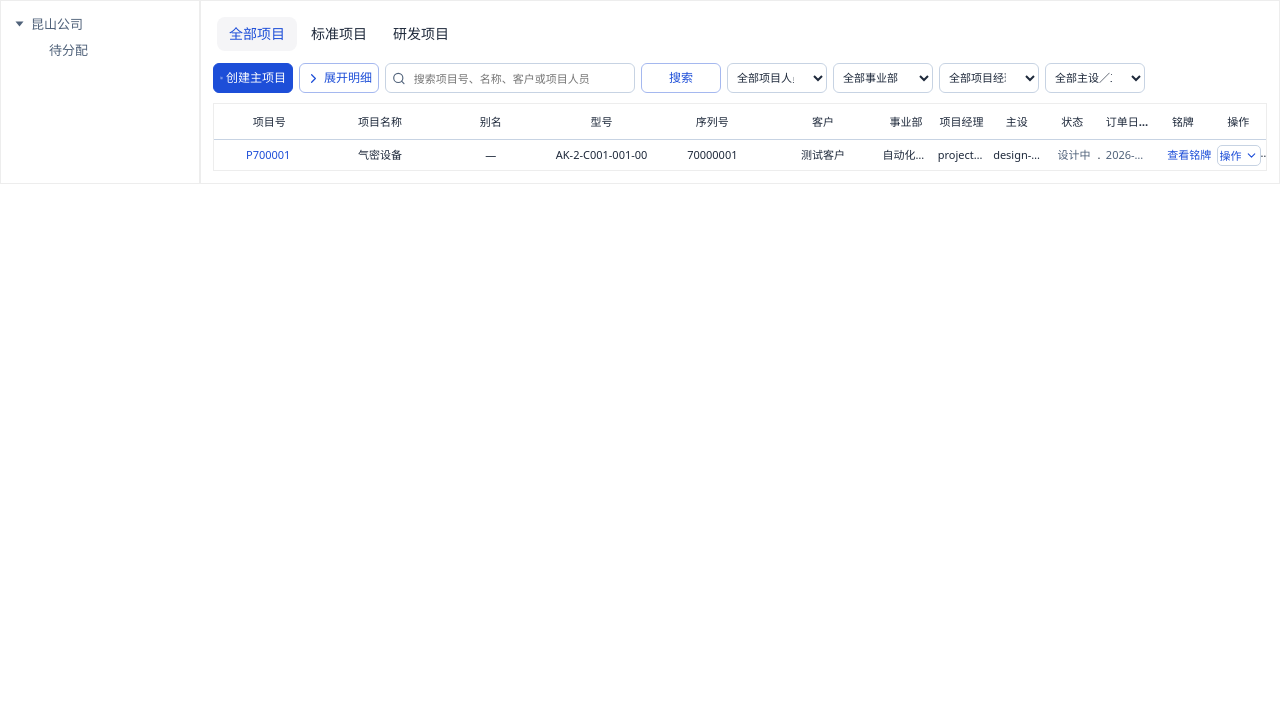
Test: ProjectManager › 从类型页签创建主项目时默认选中当前类型
The image size is (1280, 720).
Step 1. Click the tab "研发项目" → (421, 34), box 393,24 -> 449,43
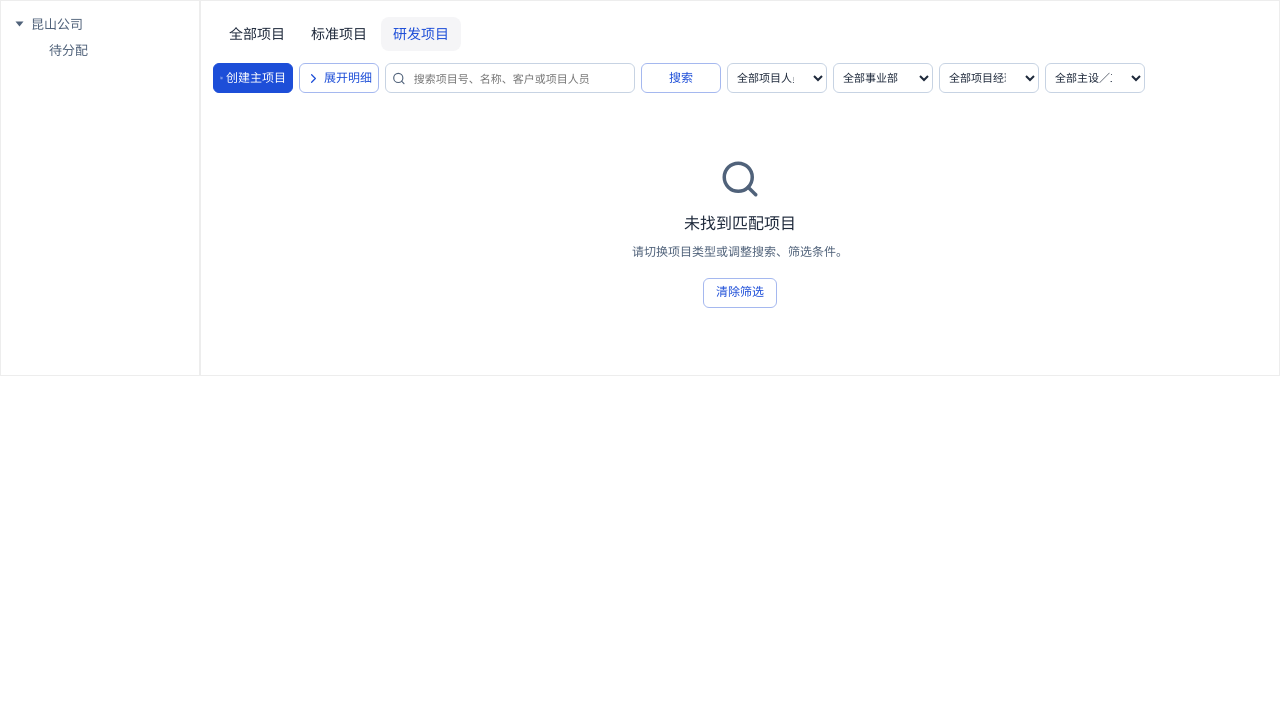
Step 2. Click the button "创建主项目" → (253, 78), box 213,63 -> 293,93
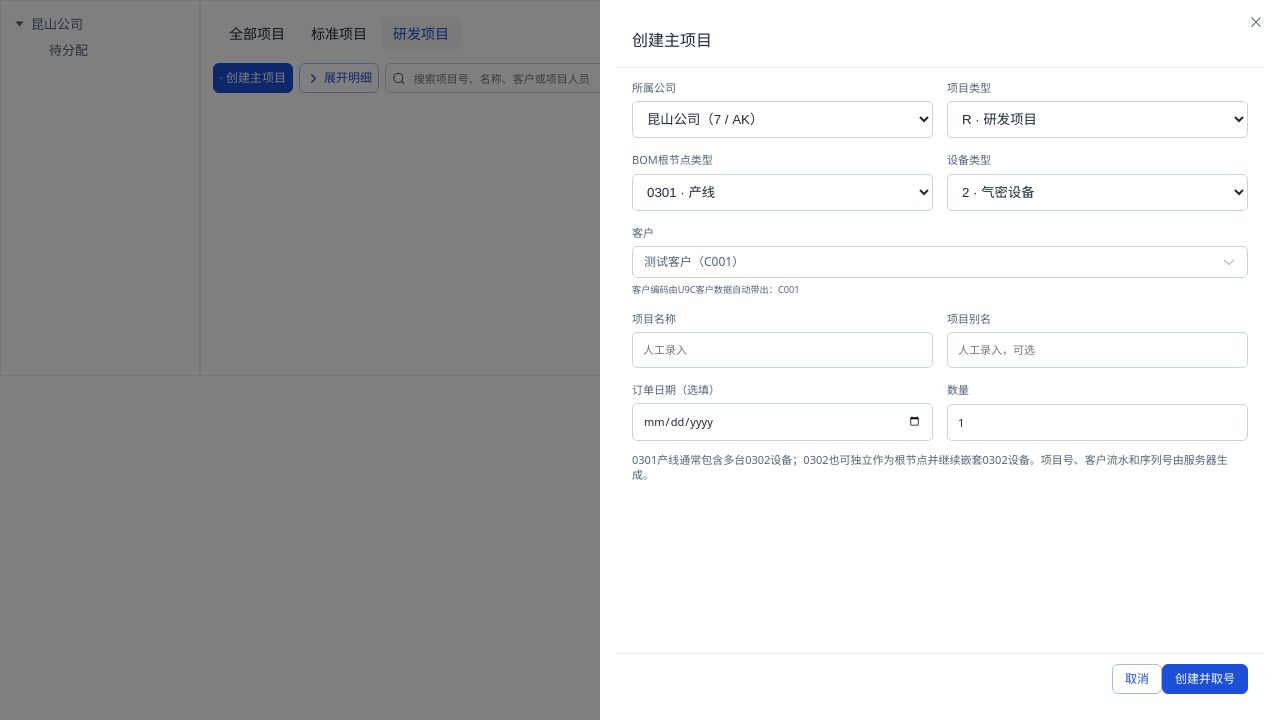
Result: the dropdown named "projectTypeCode" shows "R · 研发项目" at 947,101 -> 1248,138
